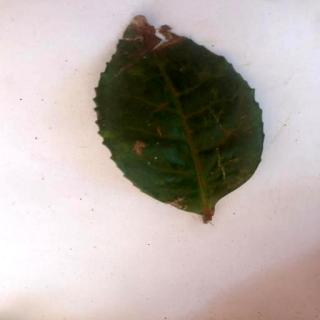Brown Blight: (94, 15, 266, 225)
